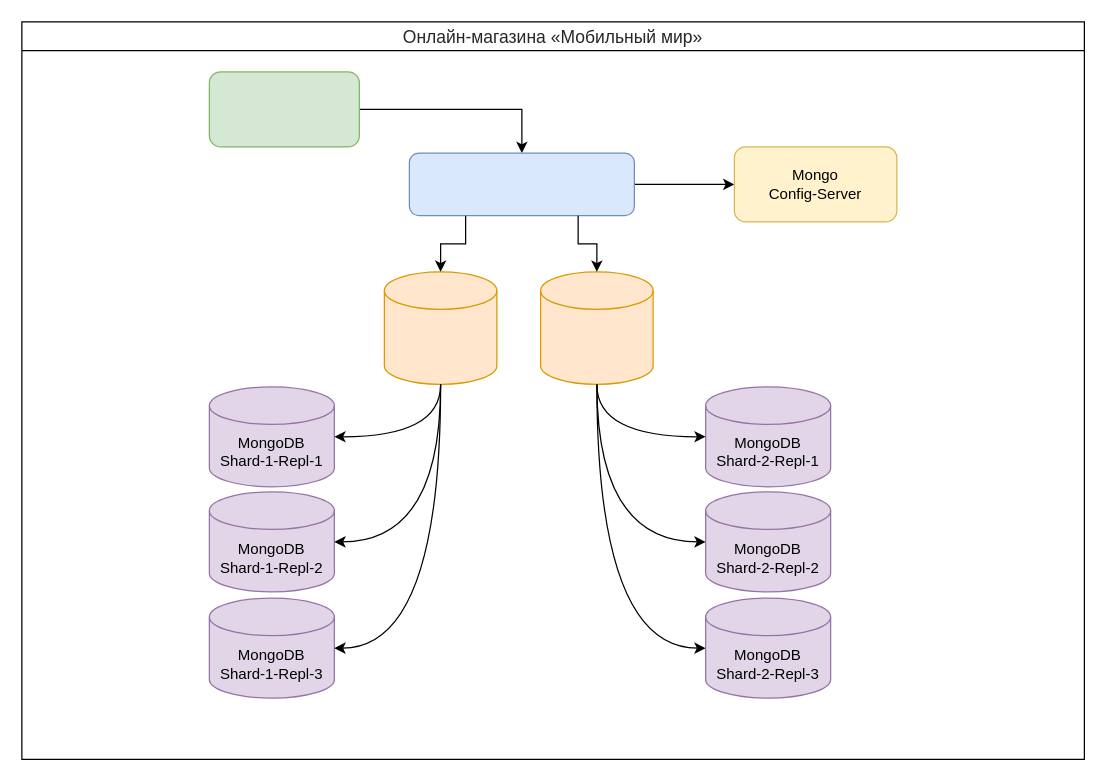
The diagram is 1106 pixels wide and 781 high, and some of its shapes have lost their labels. Each missing label, with the box of its shape:
Mongo Router: (408, 152, 634, 216)
MongoDB Shard-1: (383, 271, 497, 384)
MongoDB Shard-2: (539, 271, 653, 384)
pymongo-api: (208, 71, 359, 147)
